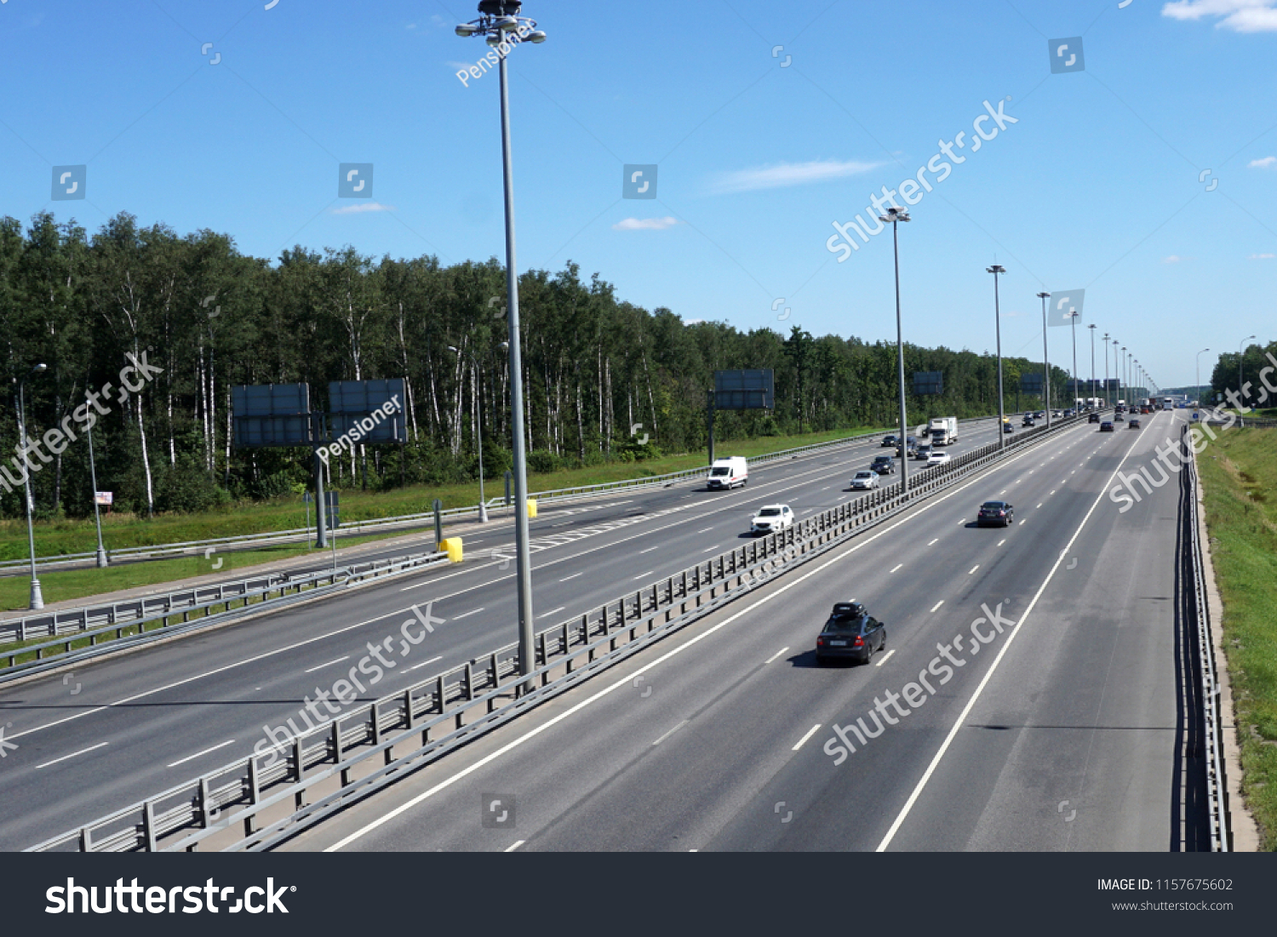other: (807, 603, 894, 666), (705, 454, 750, 491), (743, 502, 798, 532), (970, 492, 1018, 526), (868, 449, 900, 479), (846, 466, 877, 492)
